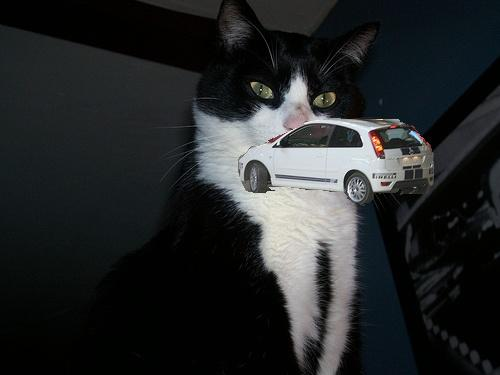tampered: (239, 119, 434, 206)
